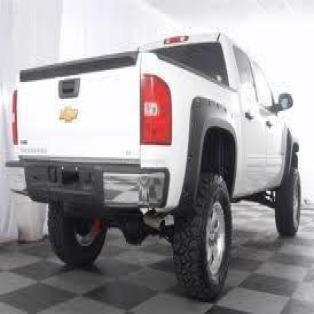Auto: (8, 30, 304, 304)
